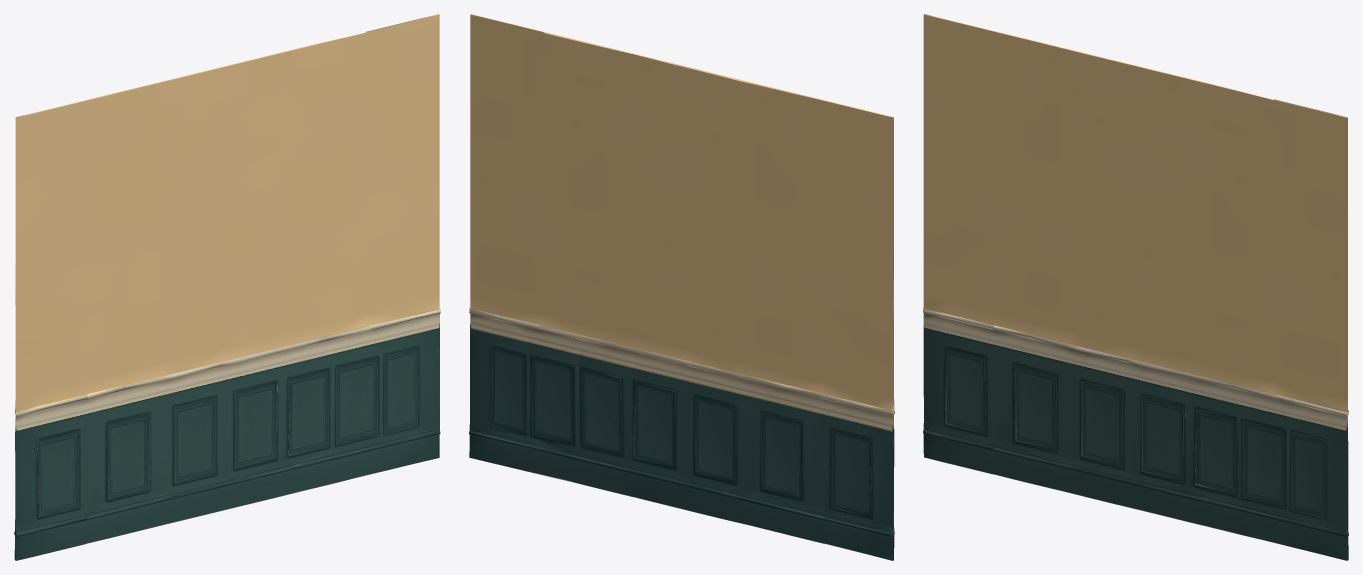
Rendered from env_cafe_wall_plain.glb.
3 renders of one model, left to right at view 1: azimuth 30°, elevation 25°; view 2: azimuth 150°, elevation 25°; view 3: azimuth 330°, elevation 25°, orthographic.
Bounding box in the file's own units: 1 × 1 × 0.0114.
1 material, 1 textured.
